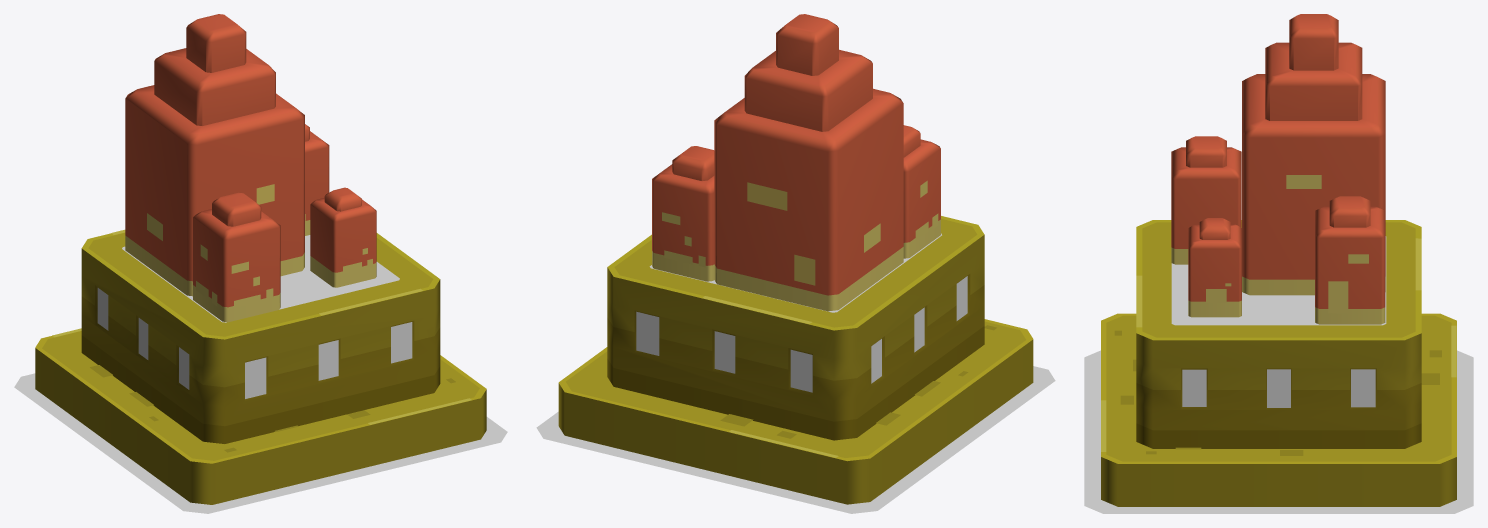
File: MG_special_torch_03.fbx
3 views of the same model, side by side, from view 1: azimuth 30°, elevation 25°; view 2: azimuth 150°, elevation 25°; view 3: azimuth 270°, elevation 25° (orthographic). The views are drawn at different scales.
Parts seen in each view (by area): view 1: polySurface31, polySurface32, polySurface58, polySurface50, ground, polySurface59, polySurface37, polySurface66, polySurface67, polySurface61; view 2: polySurface31, polySurface32, polySurface37, ground, polySurface58, polySurface65, polySurface64, polySurface60; view 3: polySurface31, polySurface32, polySurface37, ground, polySurface58, polySurface50, polySurface59, polySurface69, polySurface68, polySurface62.
Boxes of the visible parts, x1=… form: polySurface31: x1=35, y1=229, x2=486, y2=504; polySurface32: x1=125, y1=14, x2=304, y2=296; polySurface58: x1=193, y1=192, x2=280, y2=322; polySurface50: x1=310, y1=187, x2=376, y2=287; ground: x1=14, y1=373, x2=507, y2=513; polySurface59: x1=122, y1=235, x2=399, y2=322; polySurface37: x1=305, y1=124, x2=329, y2=235; polySurface66: x1=245, y1=357, x2=266, y2=398; polySurface67: x1=391, y1=322, x2=412, y2=363; polySurface61: x1=318, y1=340, x2=338, y2=380; polySurface31: x1=558, y1=216, x2=1033, y2=504; polySurface32: x1=714, y1=14, x2=903, y2=311; polySurface37: x1=652, y1=146, x2=714, y2=281; ground: x1=536, y1=366, x2=1055, y2=513; polySurface58: x1=903, y1=125, x2=940, y2=258; polySurface65: x1=636, y1=311, x2=659, y2=355; polySurface64: x1=790, y1=349, x2=812, y2=392; polySurface60: x1=714, y1=331, x2=735, y2=373; polySurface31: x1=1101, y1=220, x2=1456, y2=506; polySurface32: x1=1242, y1=14, x2=1385, y2=295; polySurface37: x1=1315, y1=196, x2=1385, y2=324; ground: x1=1084, y1=350, x2=1473, y2=513; polySurface58: x1=1171, y1=136, x2=1241, y2=264; polySurface50: x1=1188, y1=218, x2=1241, y2=317; polySurface59: x1=1171, y1=236, x2=1386, y2=325; polySurface69: x1=1351, y1=369, x2=1375, y2=407; polySurface68: x1=1182, y1=369, x2=1206, y2=406; polySurface62: x1=1267, y1=369, x2=1290, y2=407.
Size of the model in its own units: 3.28 by 3.69 by 3.28.
